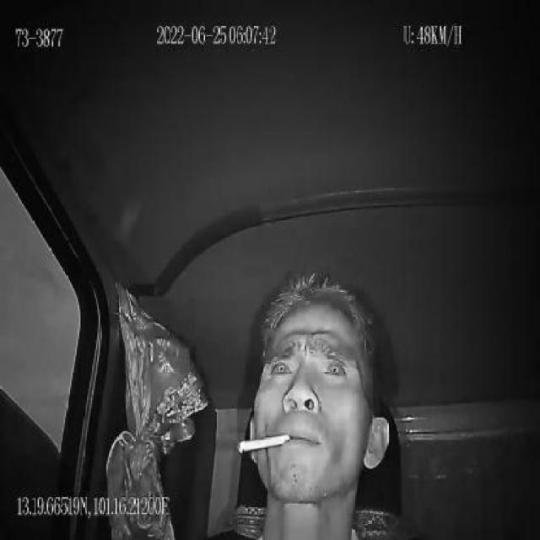smoking: (237, 428, 293, 457)
